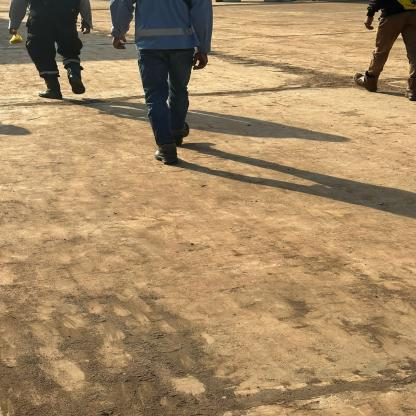bota: (62, 64, 94, 98), (31, 73, 65, 101), (145, 143, 183, 166), (353, 64, 383, 93)
